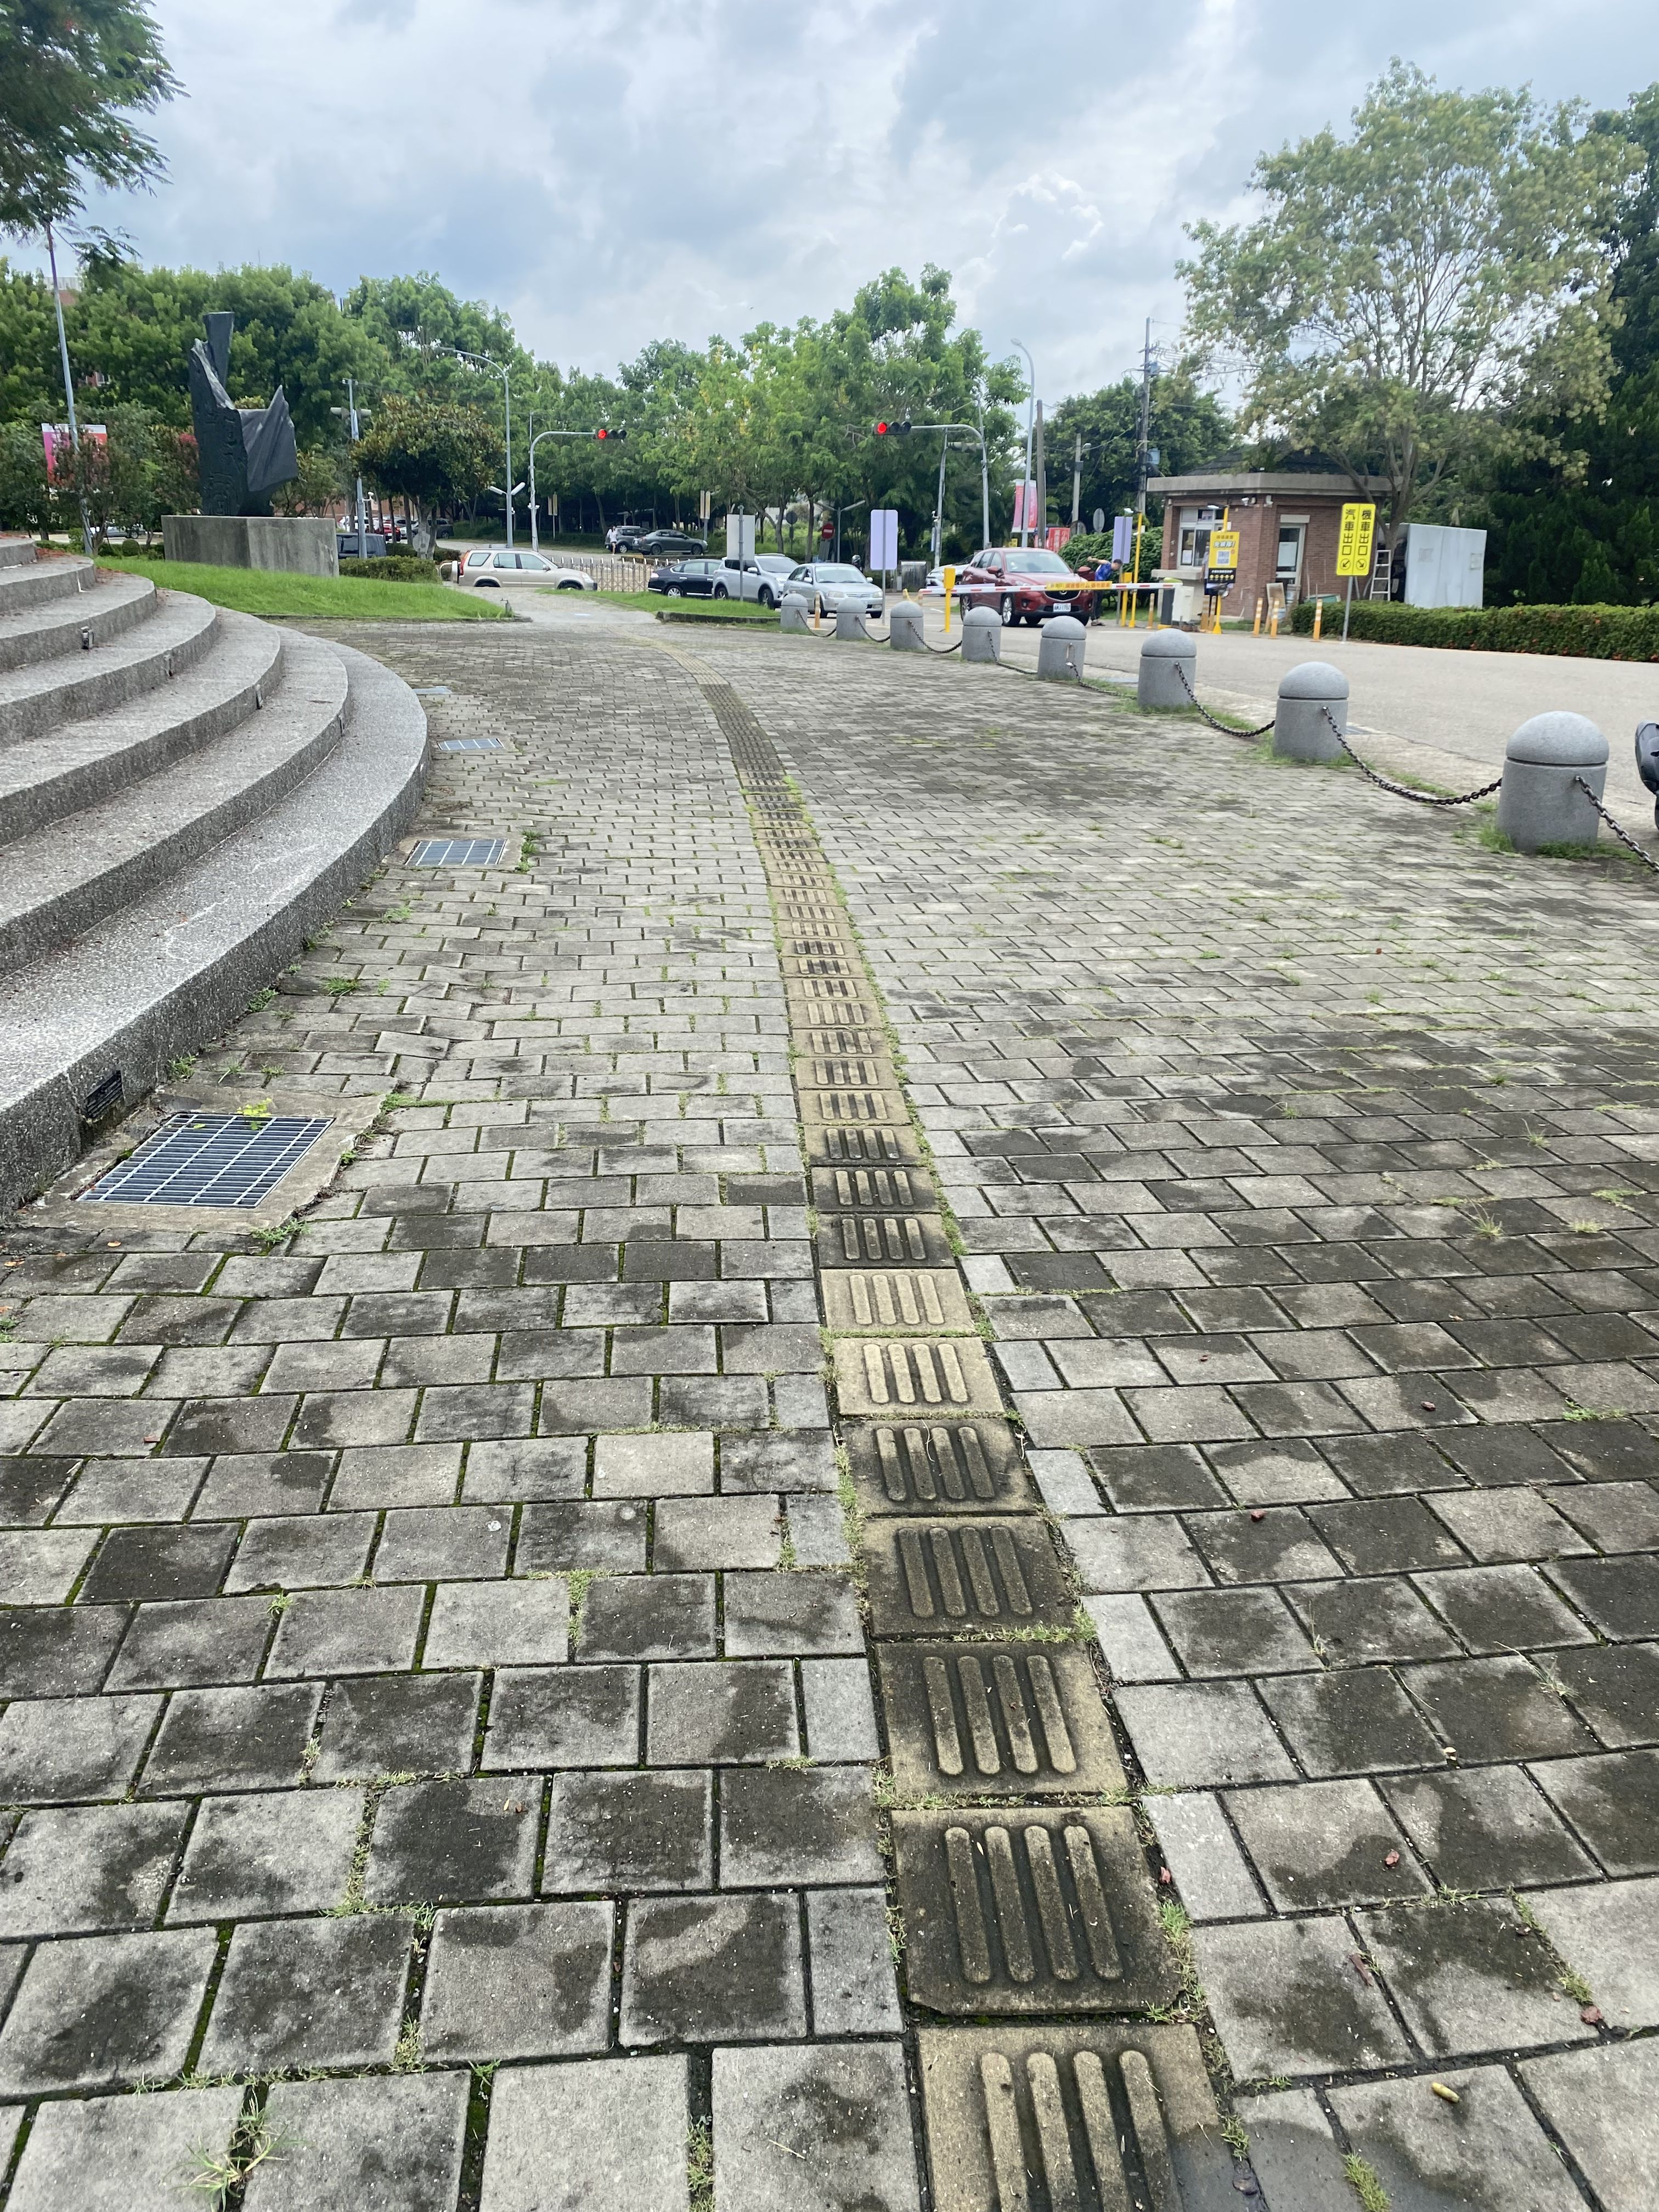sidewalk: (10, 582, 1659, 2212)
